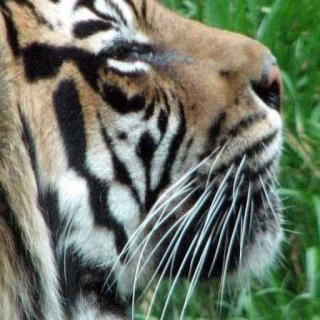Tiger: (0, 0, 295, 320)
